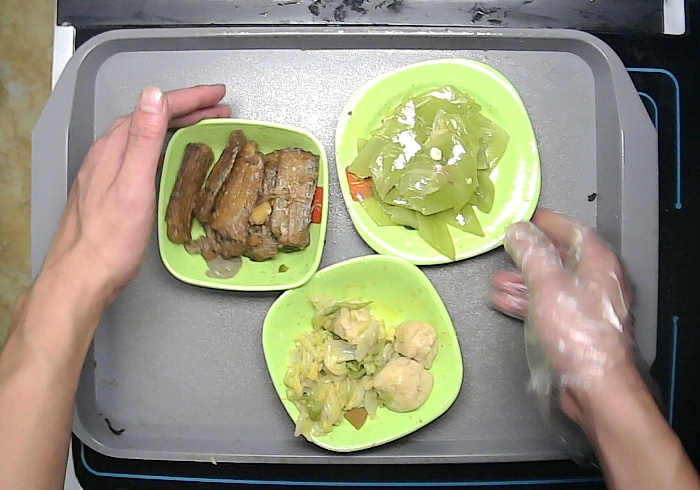SHKJ-Lv_Se_Cai_Die: (259, 251, 466, 455)
SHKJ-Lv_Se_Si_Fang_Cai_Die: (334, 58, 550, 268)
SHKJ-Lv_Se_Xiao_Fang_Die: (154, 112, 331, 299)
